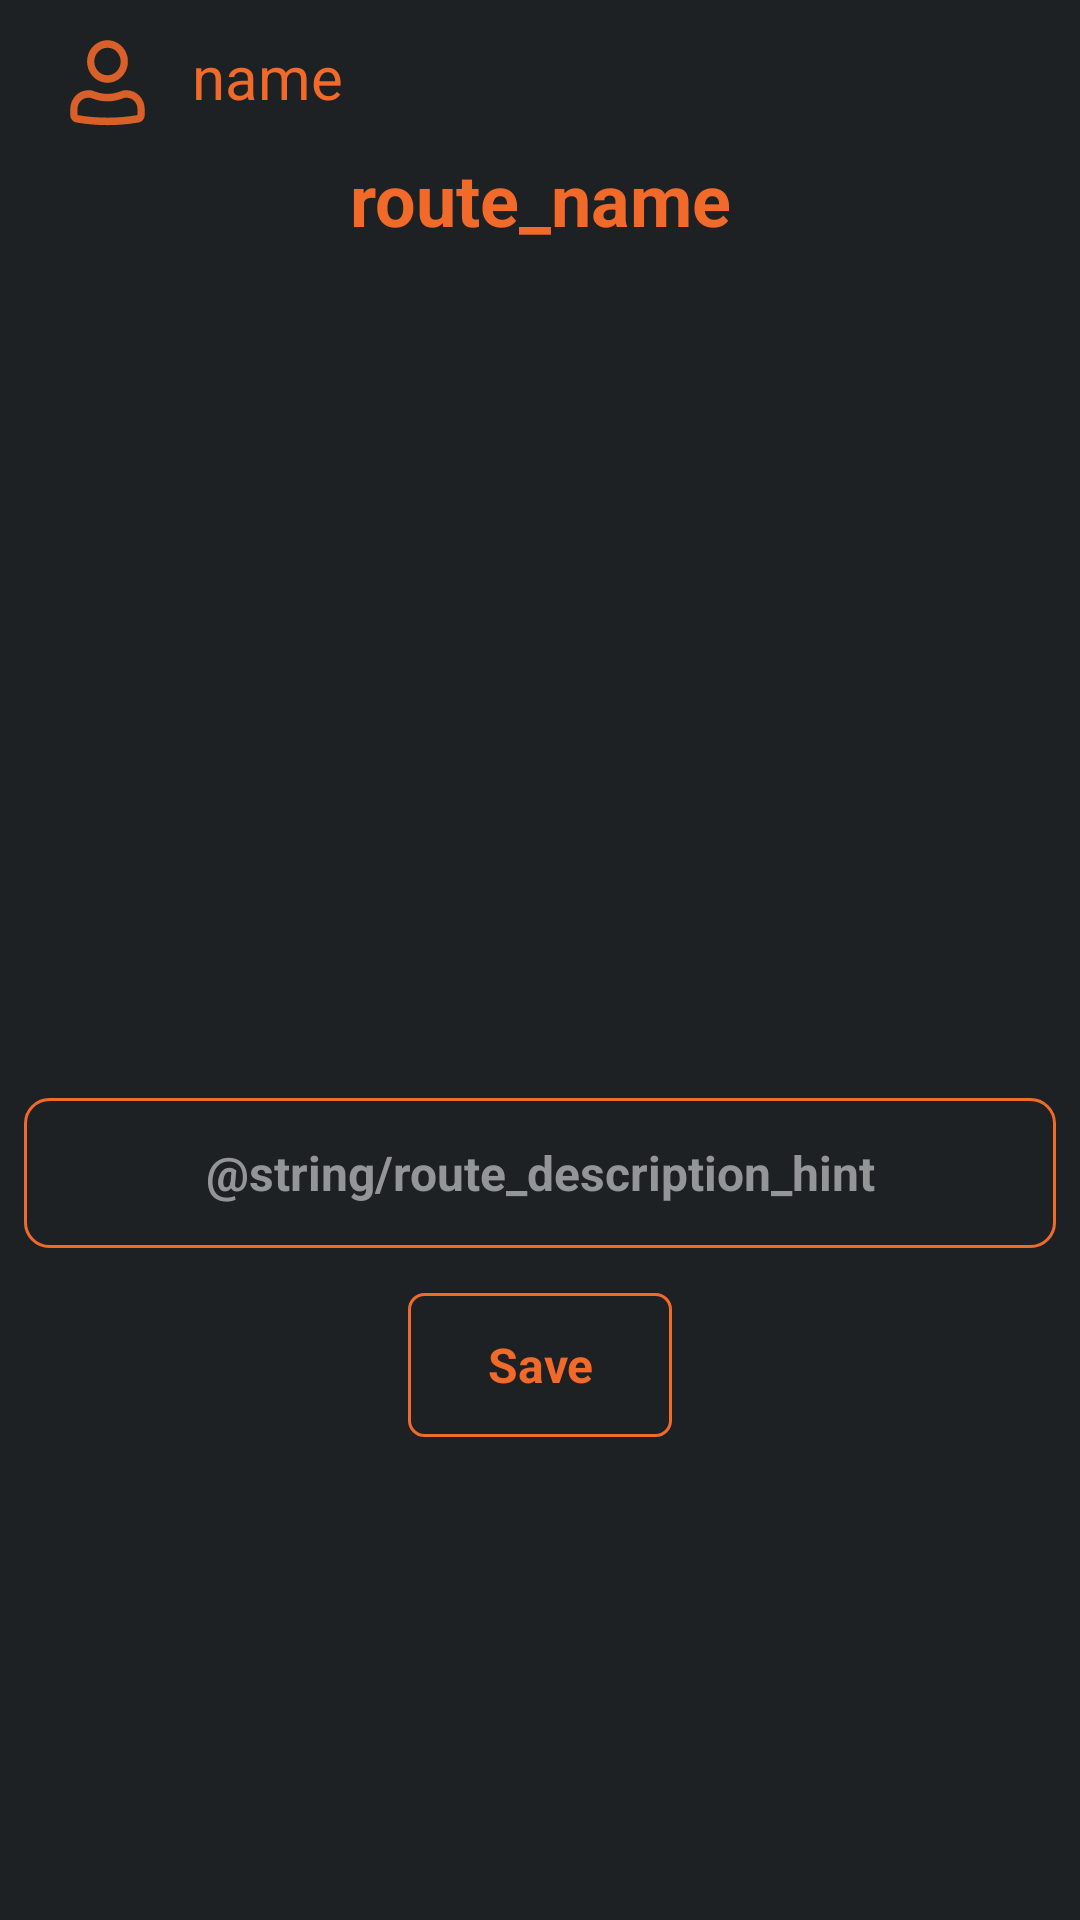

Point at icon controls on the screen. Image size 1080×1920, points as (x=x, y=y).
user: (x=107, y=83)
